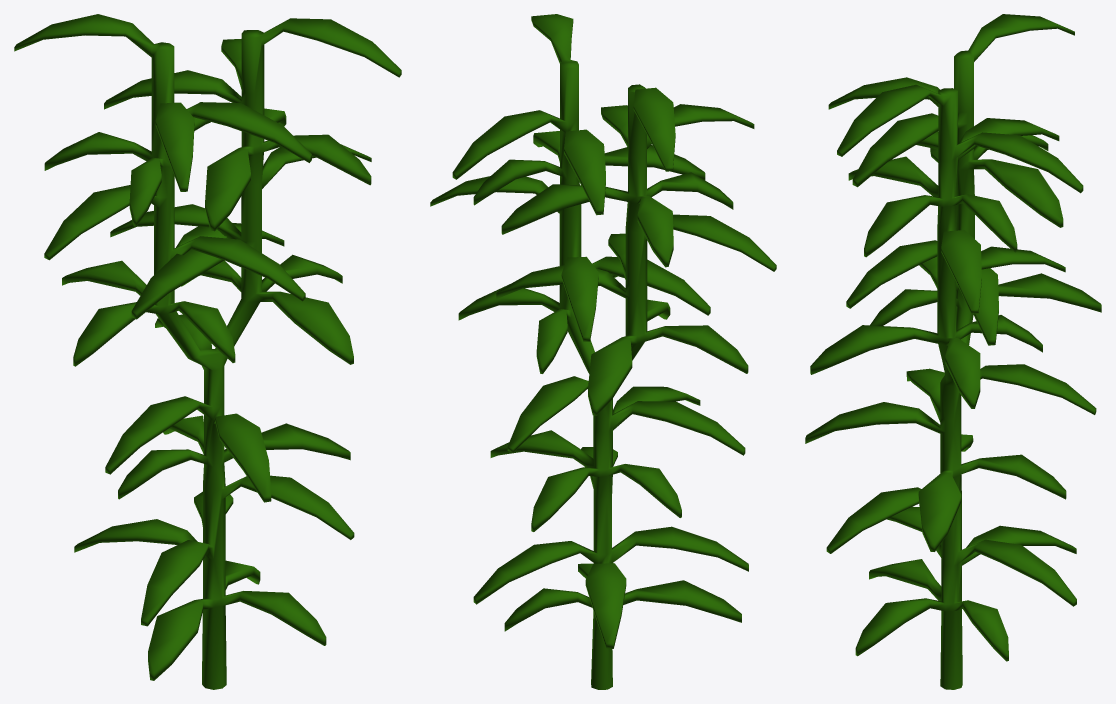
Rendered from Kasvi_pitka2.fbx.
The picture shows the model from 3 angles, left to right: view 1: azimuth 30°, elevation 25°; view 2: azimuth 150°, elevation 25°; view 3: azimuth 270°, elevation 25°; orthographic projection. The views are drawn at different scales.
Visible parts, largest first — view 1: LehtiKasvi.004; view 2: LehtiKasvi.004; view 3: LehtiKasvi.004.
Boxes of the visible parts, box(x1,y1,x2,y2) form: LehtiKasvi.004: box(14, 14, 401, 689); LehtiKasvi.004: box(430, 14, 776, 689); LehtiKasvi.004: box(805, 14, 1101, 689).
Size of the model in its own units: 119 by 218 by 94.07.
